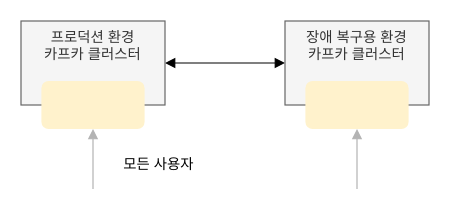
Some shapes in this 450 by 220 pixel diagram are drawn without their labels. Each missing label, with the centre of its shape:
모든 애플리케이션: the point at 92,104
비활성 애플리케이션: the point at 356,104
